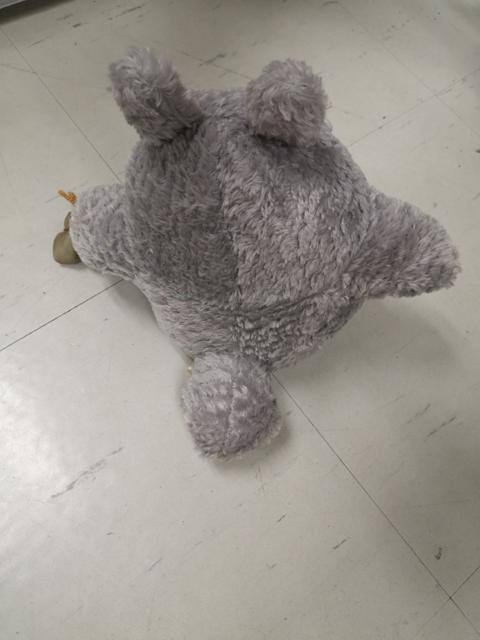totoro: (49, 38, 462, 470)
